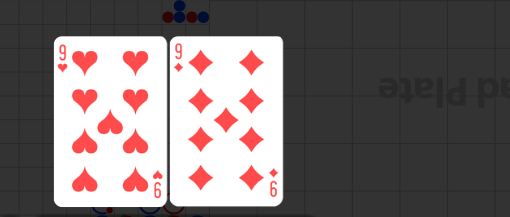9D: (267, 166, 279, 198)
9H: (151, 169, 164, 200)
